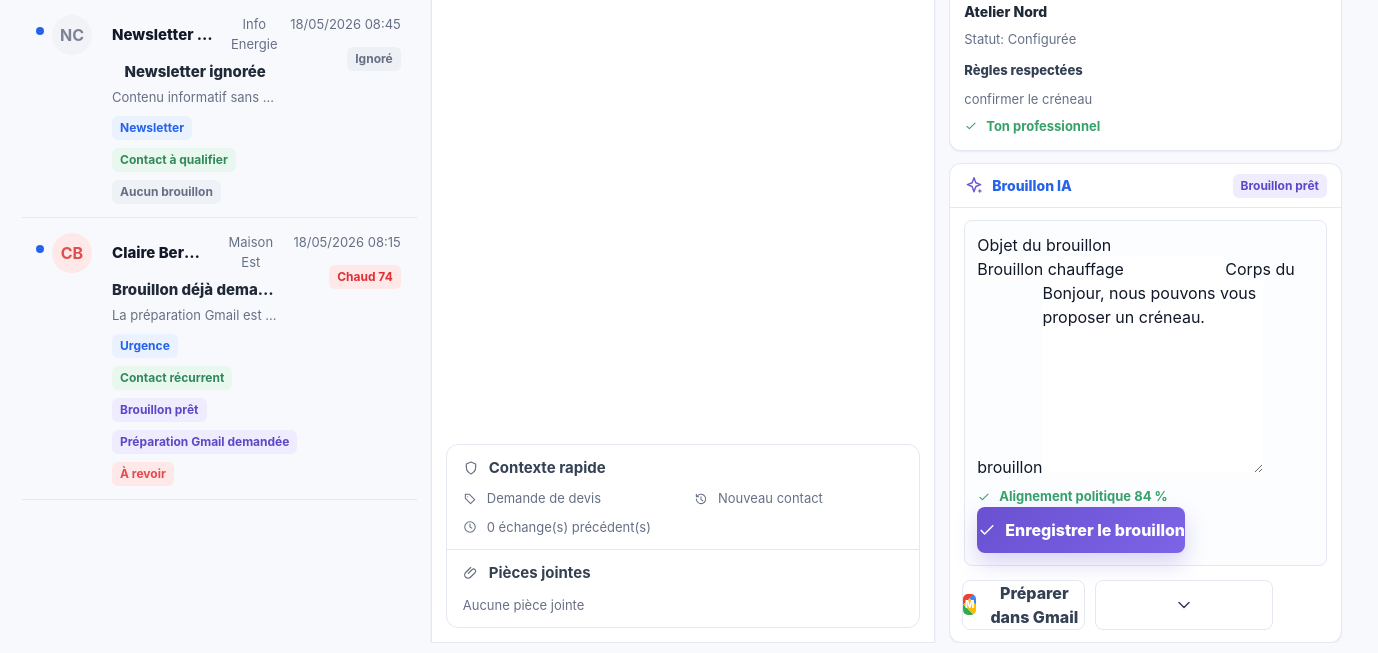
Test: client inbox live route › edits a draft through PATCH and refetches list and detail
(page scrolled)
Step 1. Replace the text in the field labelled "Objet du brouillon" with "Objet mis à jour" → (1101, 269), box 977,257 -> 1225,281
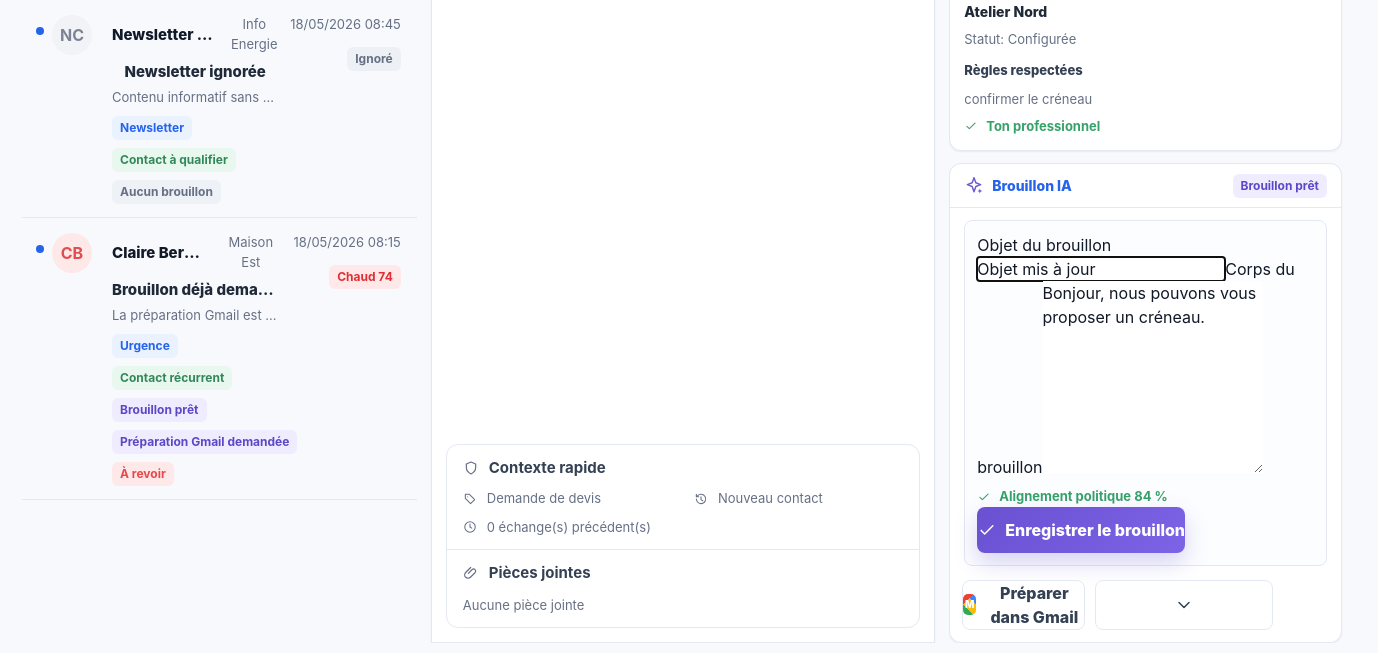
Step 2. Replace the text in the text box labelled "Corps du brouillon" with "Corps mis à jour sans stockage local." → (1152, 377), box 1042,281 -> 1262,473
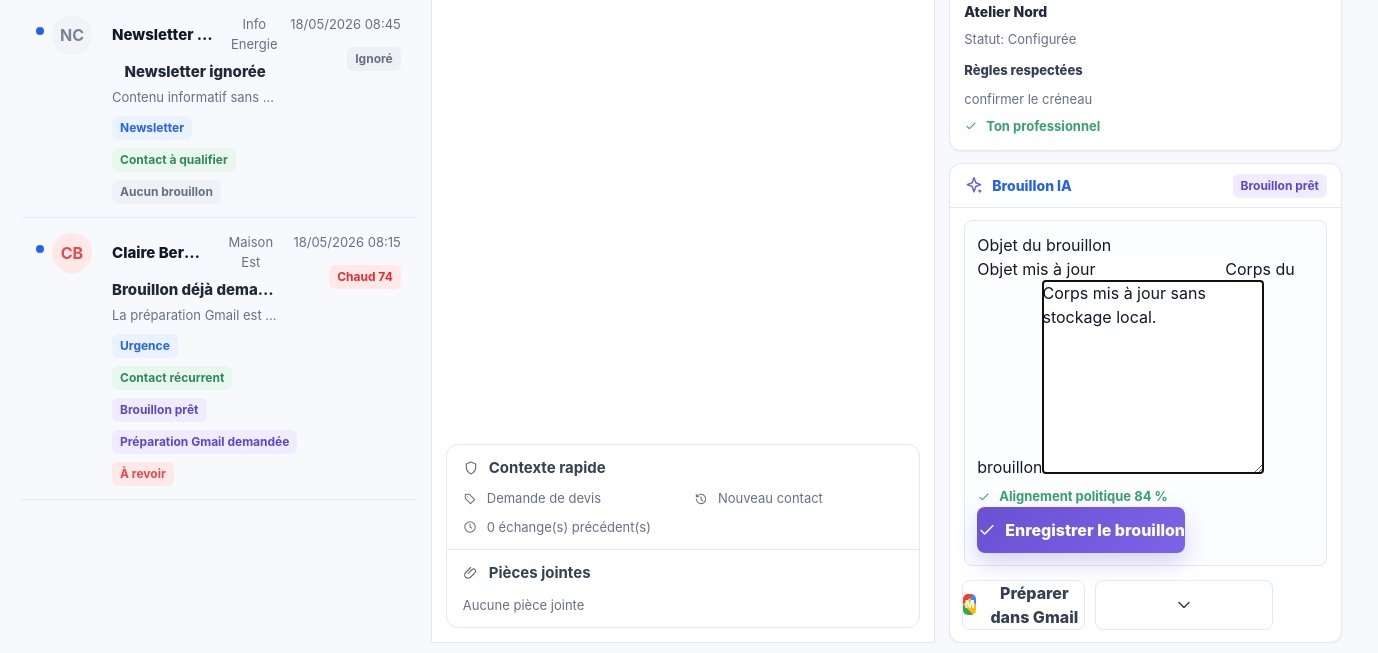
Step 3. Click the button "Enregistrer le brouillon" → (1081, 530), box 977,507 -> 1185,553
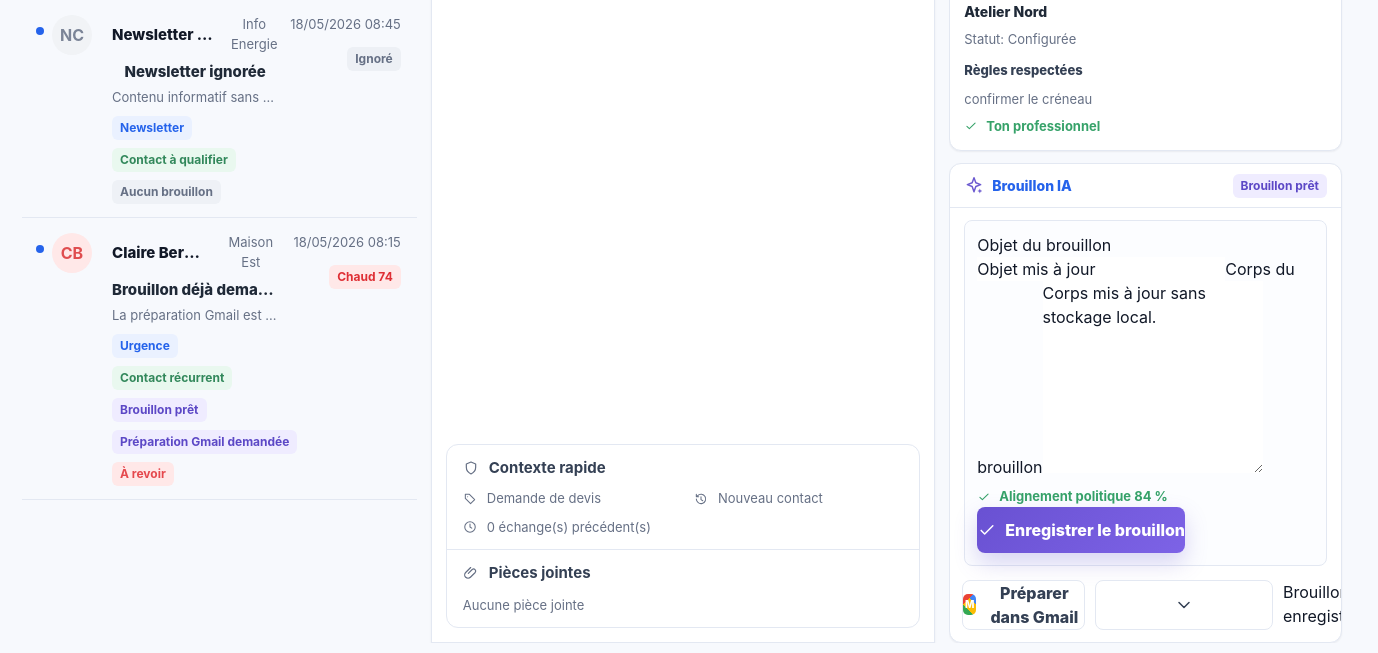
Check: the text "Brouillon enregistré." is shown, box 1283,580 -> 1329,630
